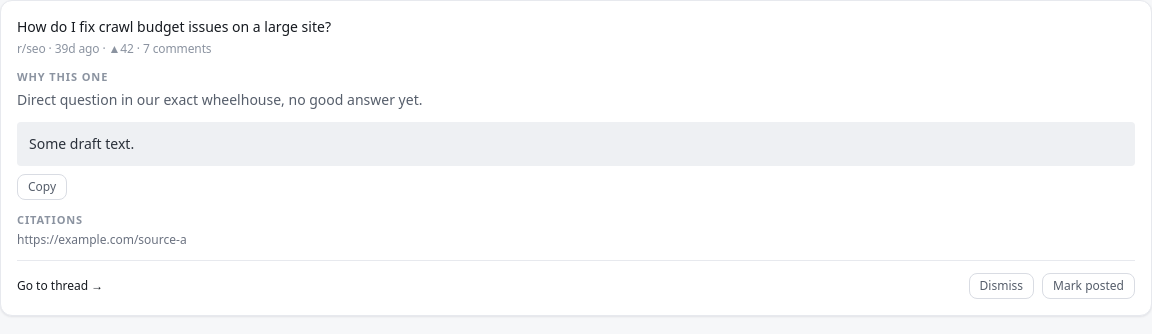
Test: RedditConversations › shows 'Copy failed' (never 'Copied') when the clipboard write rejects
Click the button "Copy".
click(42, 186)  # box [17, 174, 67, 200]
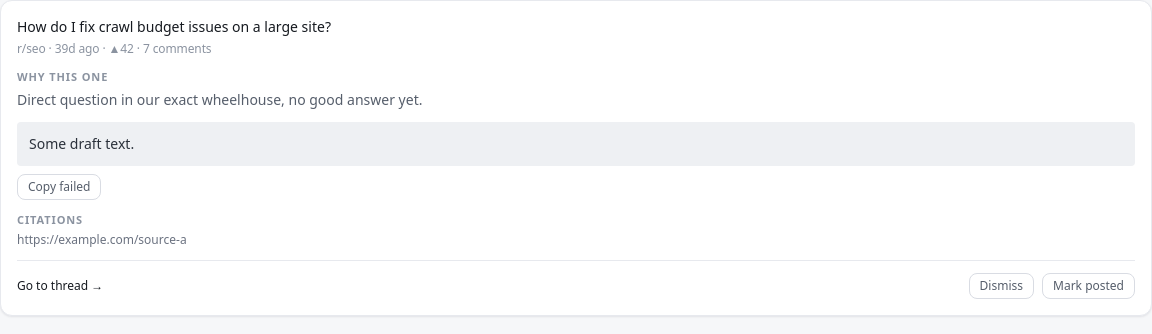
Expected: the button "Copy failed" is shown, [17, 174, 101, 200]
